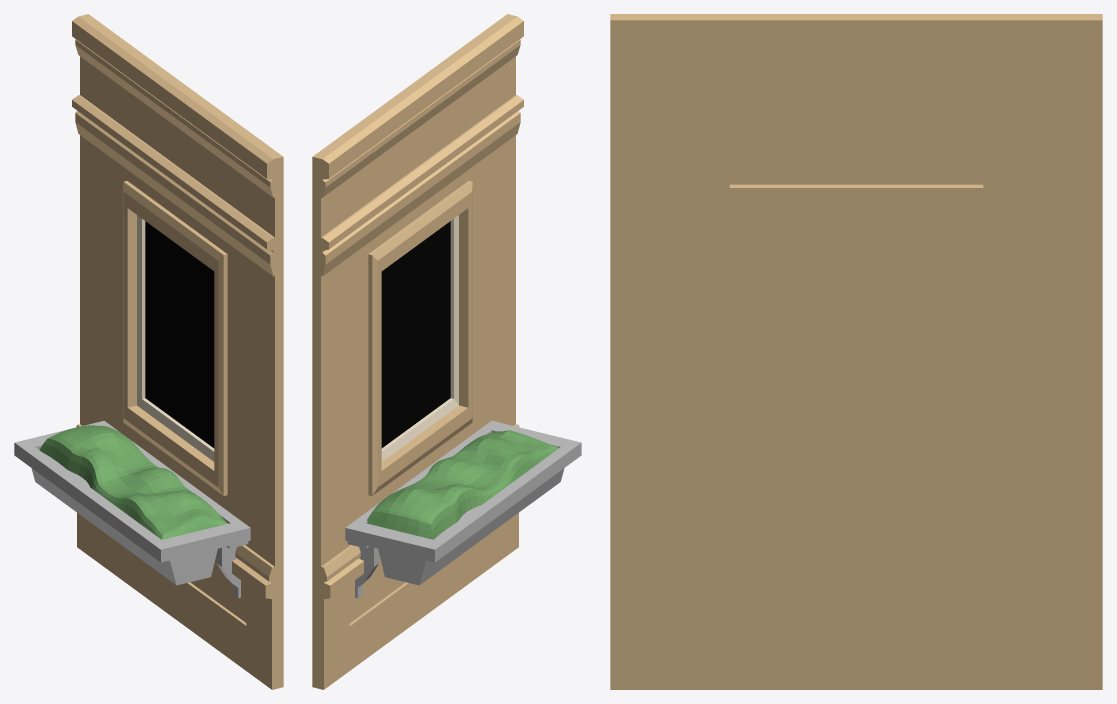
File: WallHole_1_B.fbx
3 renders of one model, left to right at view 1: azimuth 30°, elevation 25°; view 2: azimuth 150°, elevation 25°; view 3: azimuth 270°, elevation 25°, orthographic. The views are drawn at different scales.
Visible parts, largest first — view 1: WallHole_1_B; view 2: WallHole_1_B; view 3: WallHole_1_B.
Boxes of the visible parts, x1=… form: WallHole_1_B: x1=14, y1=14, x2=283, y2=689; WallHole_1_B: x1=312, y1=14, x2=581, y2=689; WallHole_1_B: x1=610, y1=14, x2=1102, y2=689.
Size of the model in its own units: 61.65 by 200 by 300.
